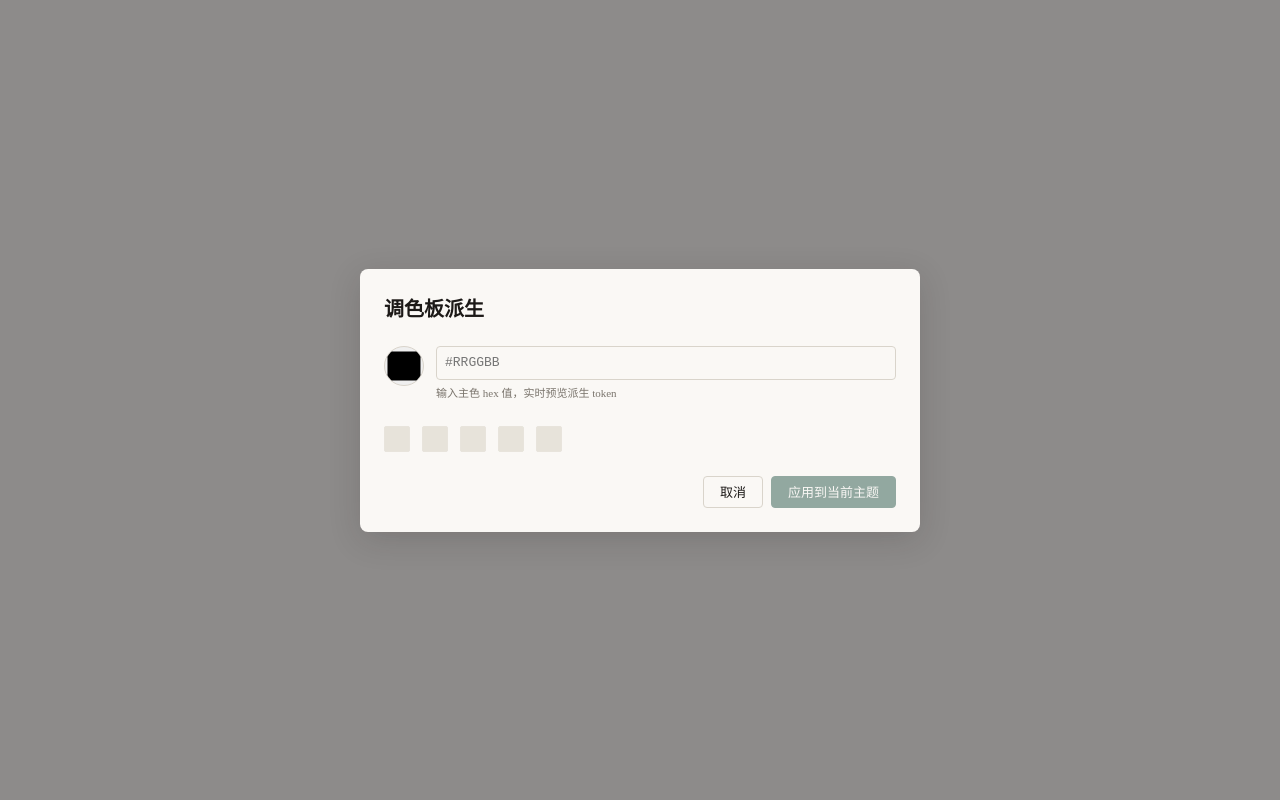
Test: AC-003: 非法 hex → 红文案出现；失焦回滚上一合法值 › 输入非法字符触发红色错误文案
Type "zzz" into the field with test id "derive-hex-input". click: (666, 362)
box: [436,346,896,380]
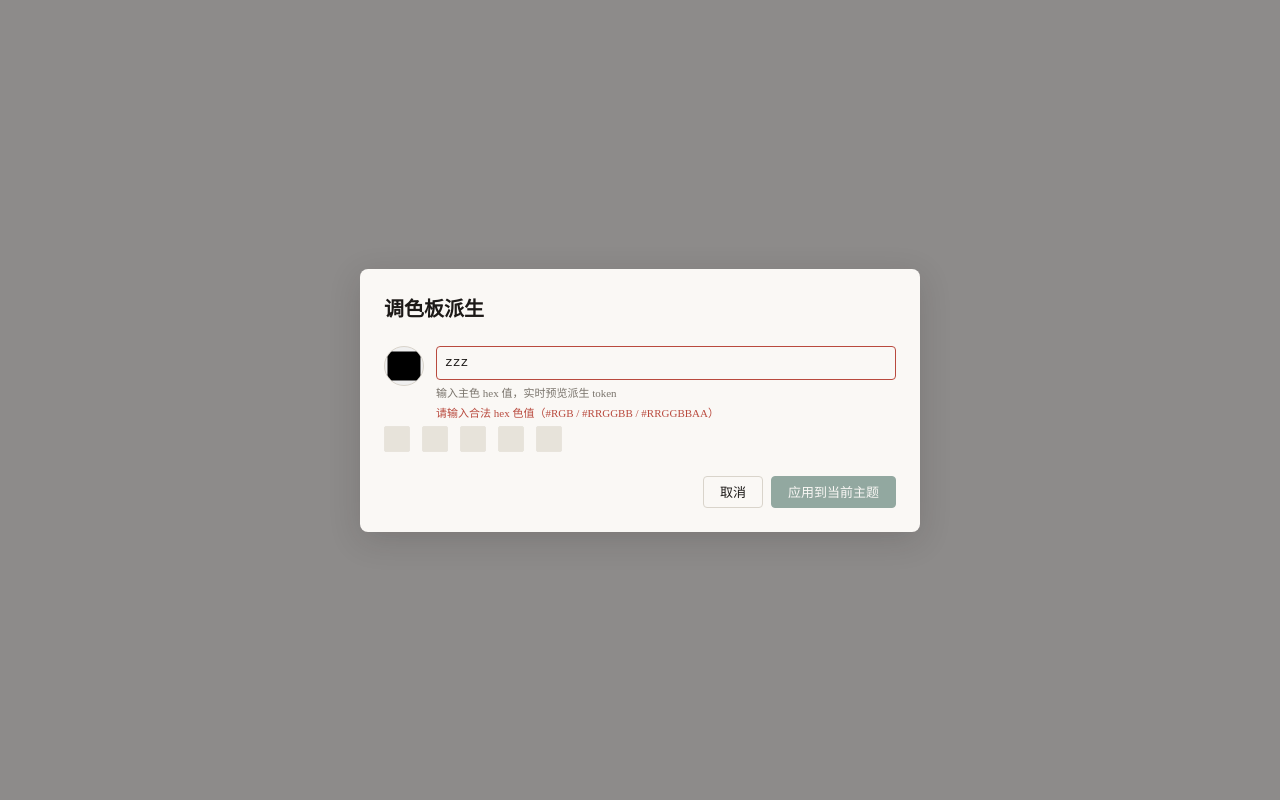
Expected: the text with test id "derive-hex-error" shows "请输入合法 hex 色值", [436,406,719,418]
